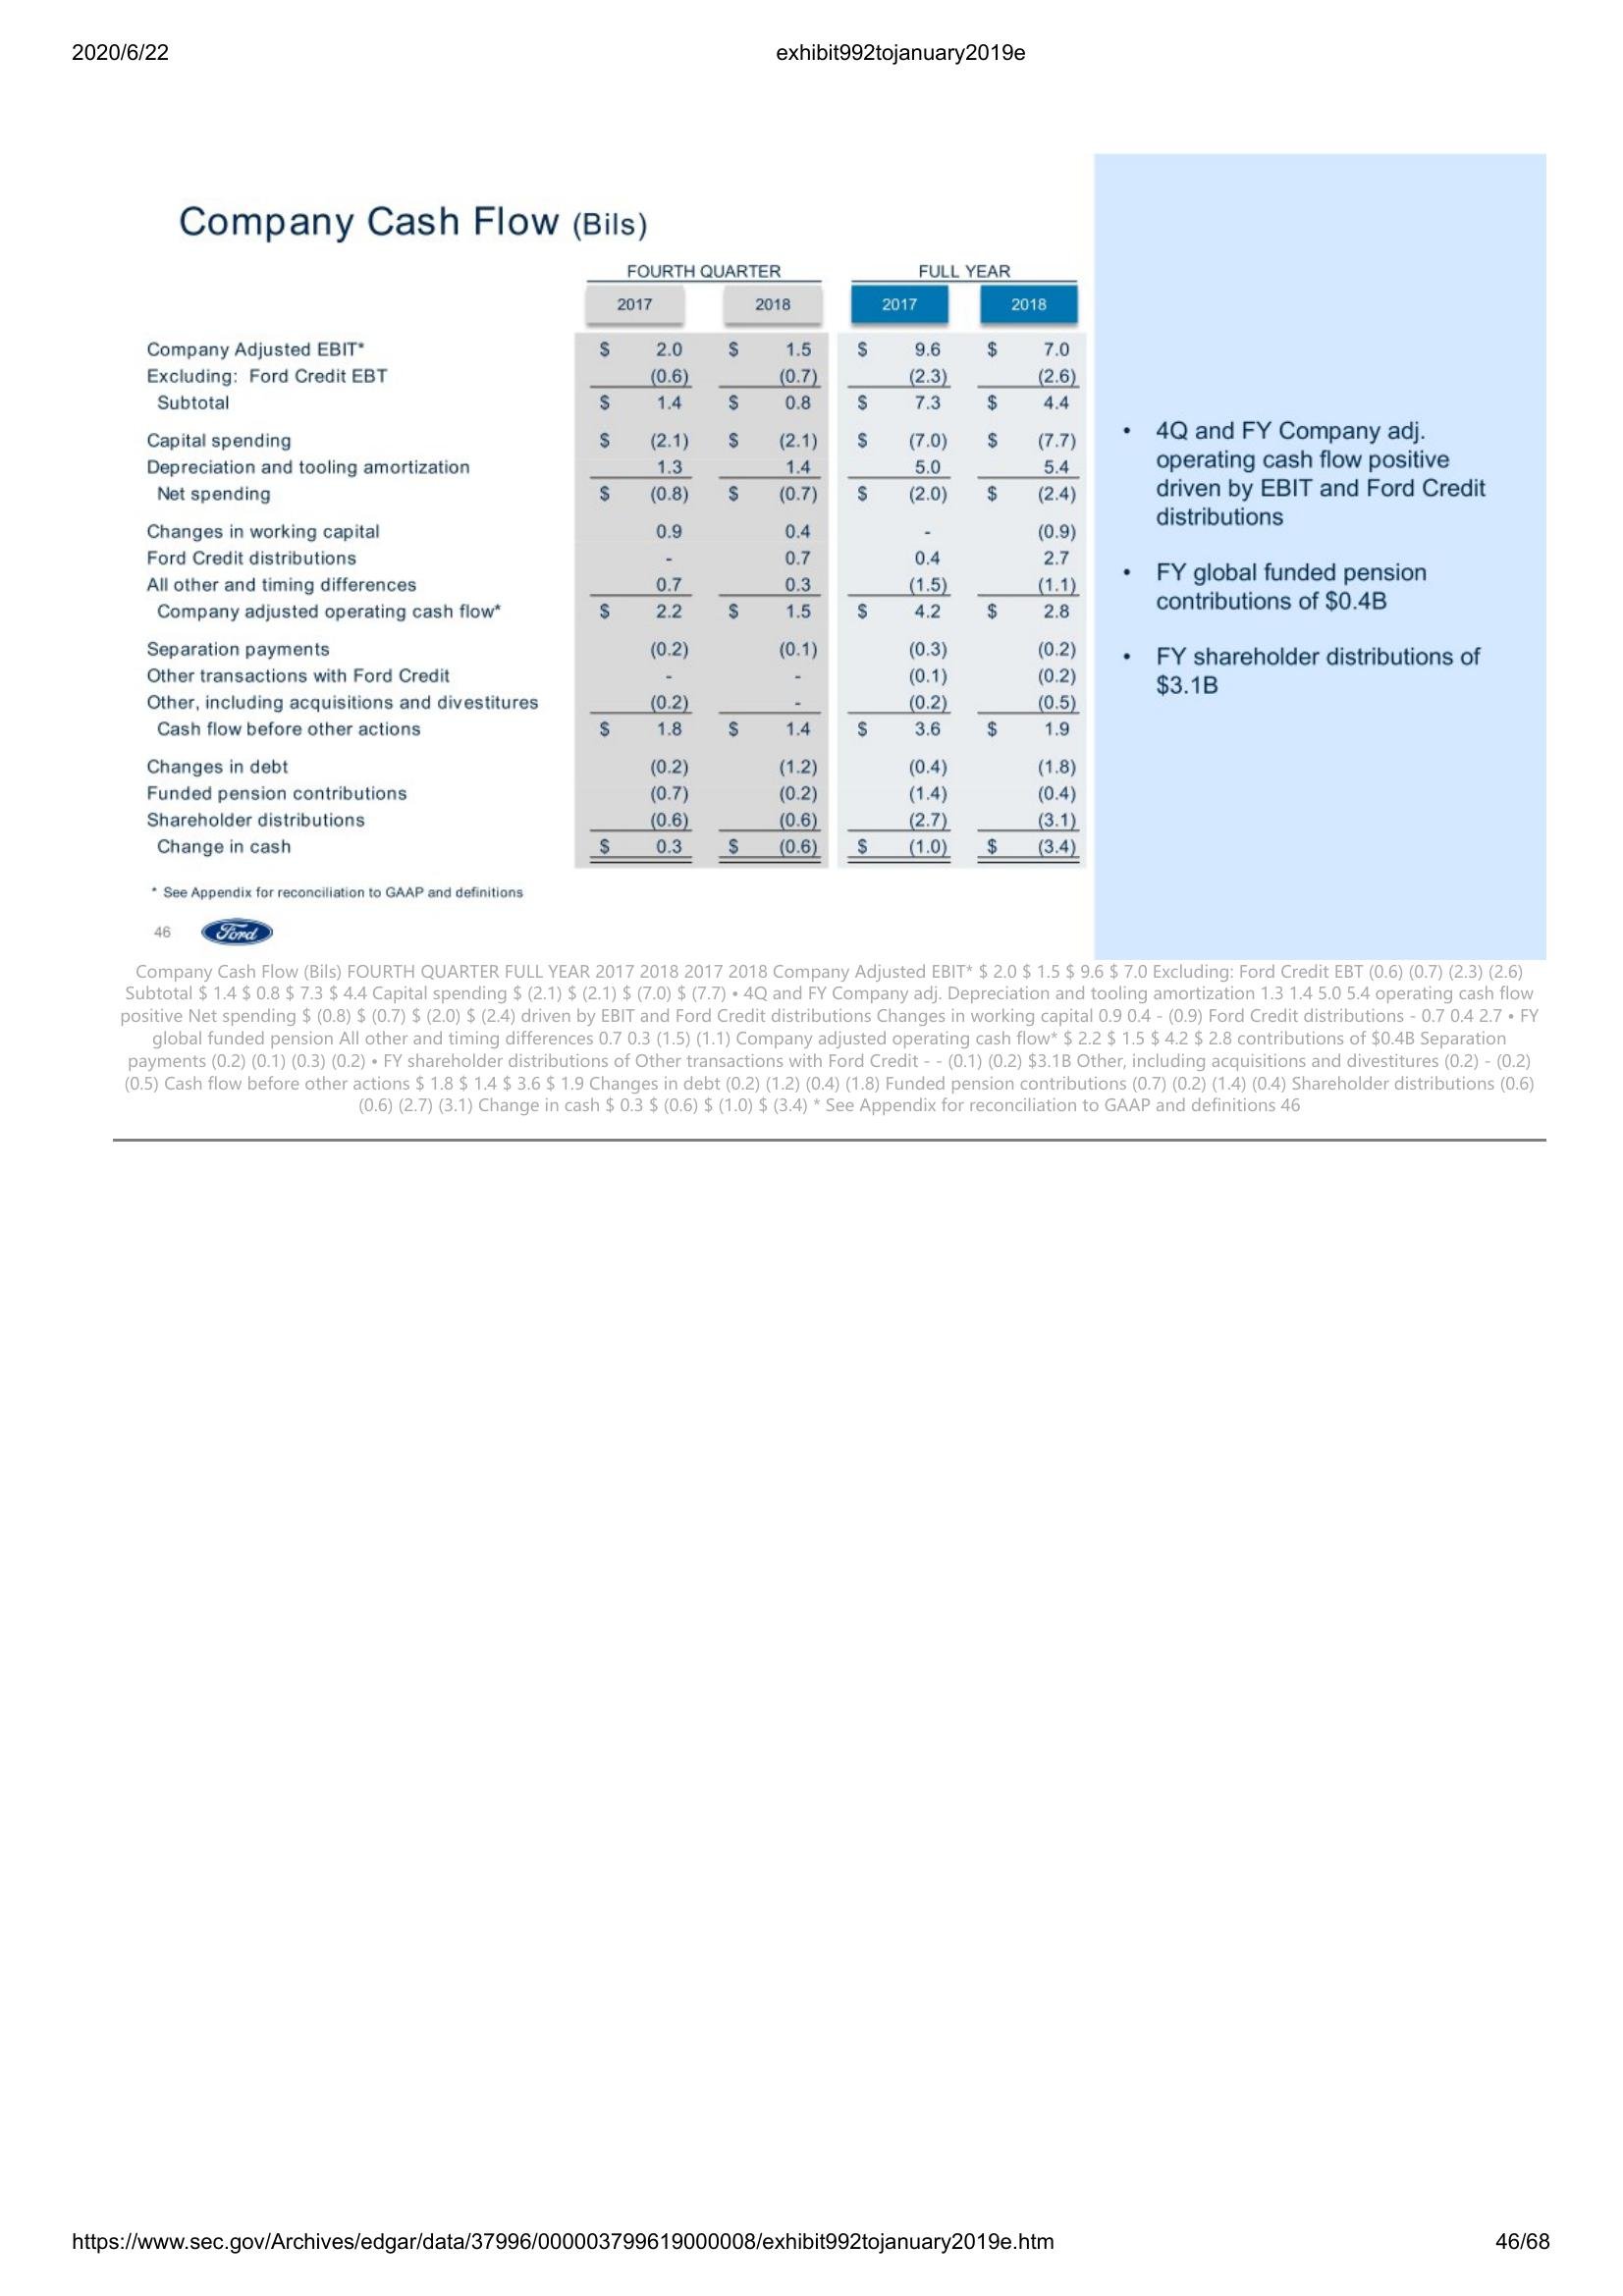table: (139, 262, 1087, 869)
